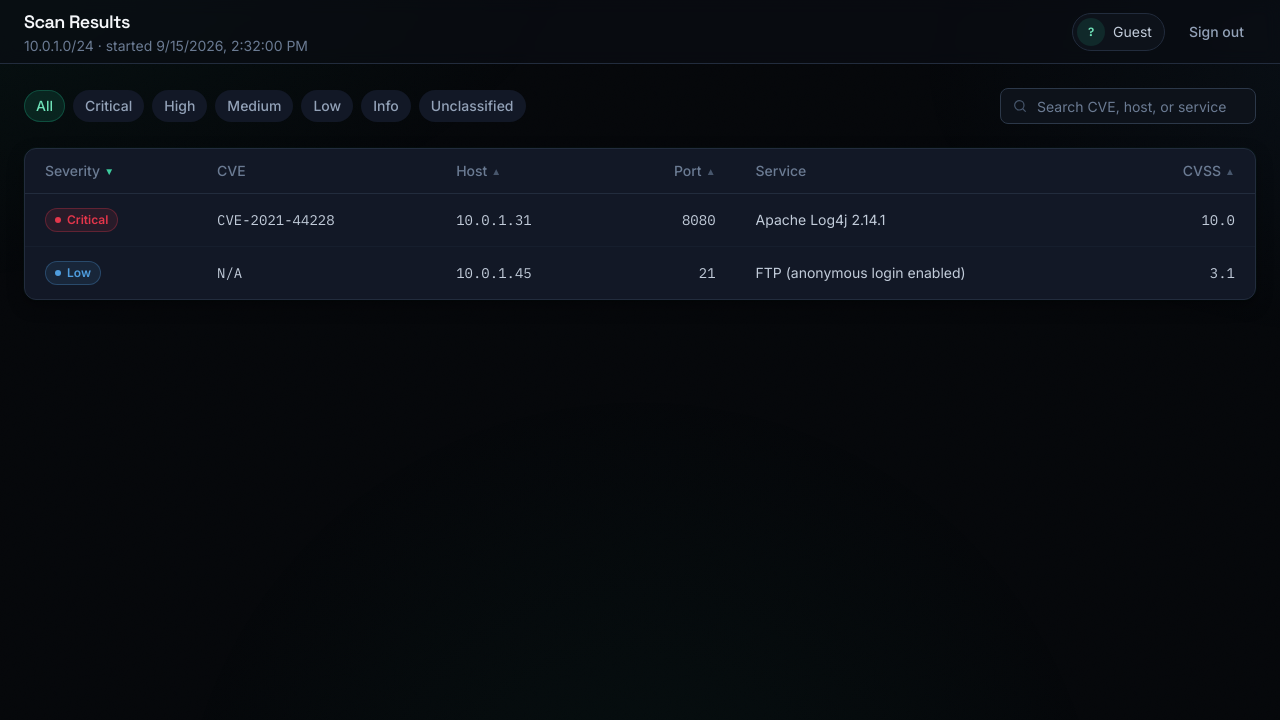
it: ScanResults › resets to Level 1 when a different vulnerability is selected
Click the text "CVE-2021-44228" at point(276, 220), box [217,211,335,229]
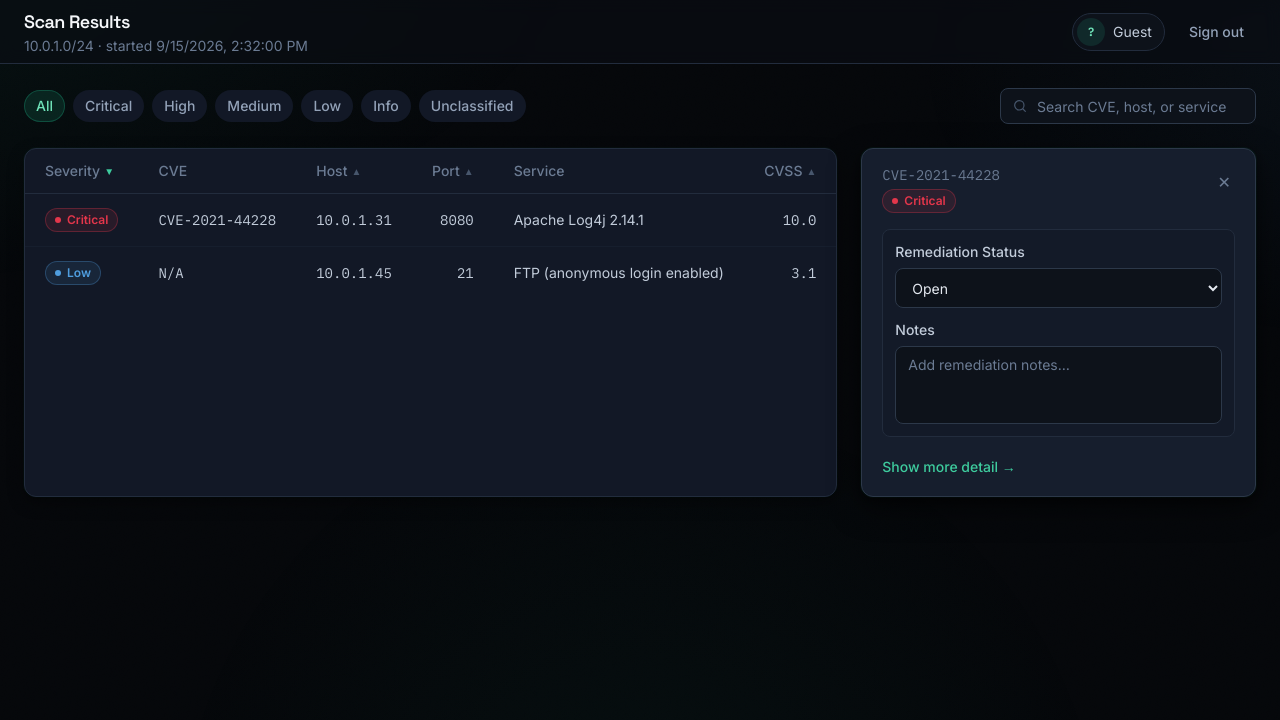
Click the button "Show more detail →" at point(949, 467), box [882,457,1016,477]
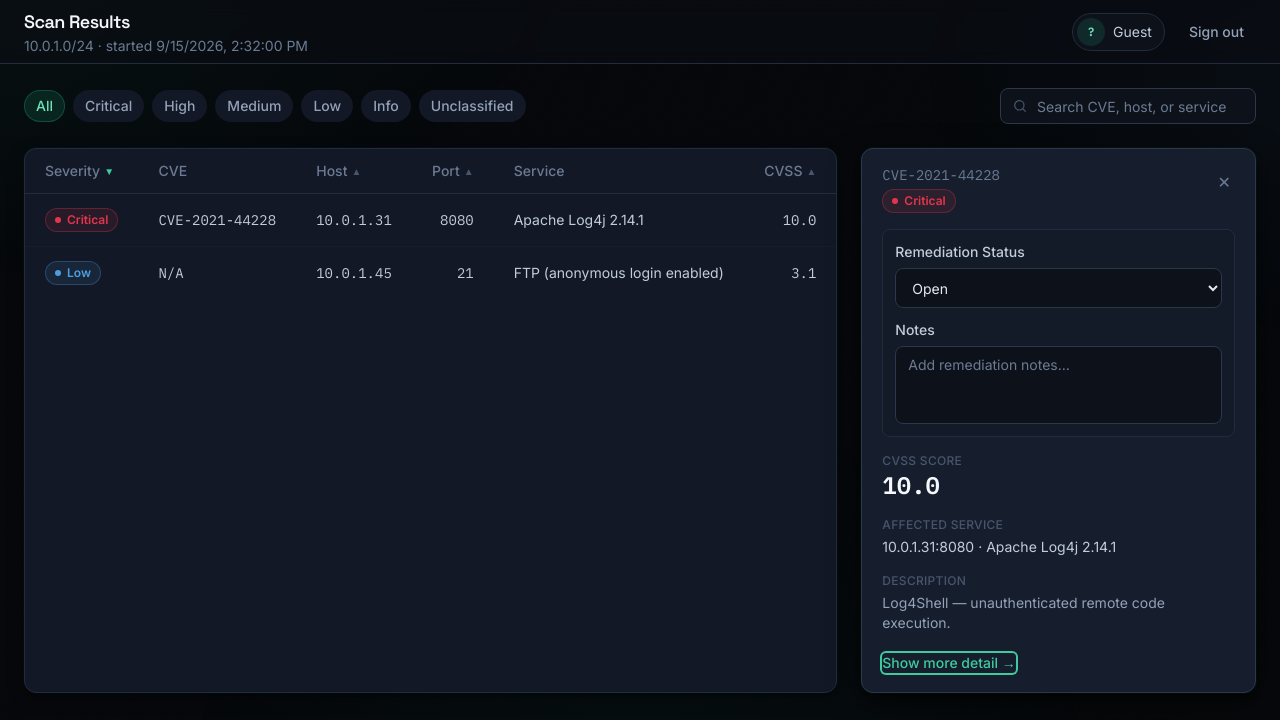
Click the button "Show more detail →" at point(949, 663), box [882,653,1016,673]
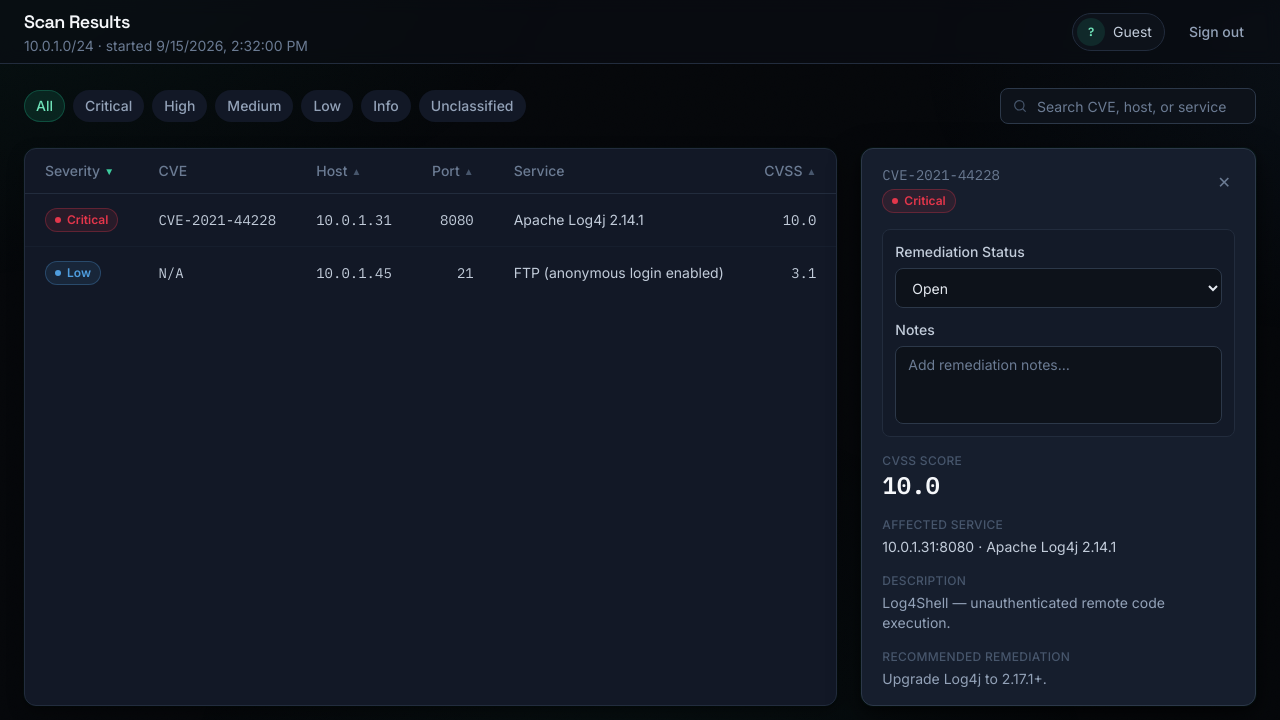
Result: the text "Upgrade Log4j to 2.17.1+." is shown at [882,670,1047,687]
Click the text "N/A" at point(171, 273), box [158,264,184,282]
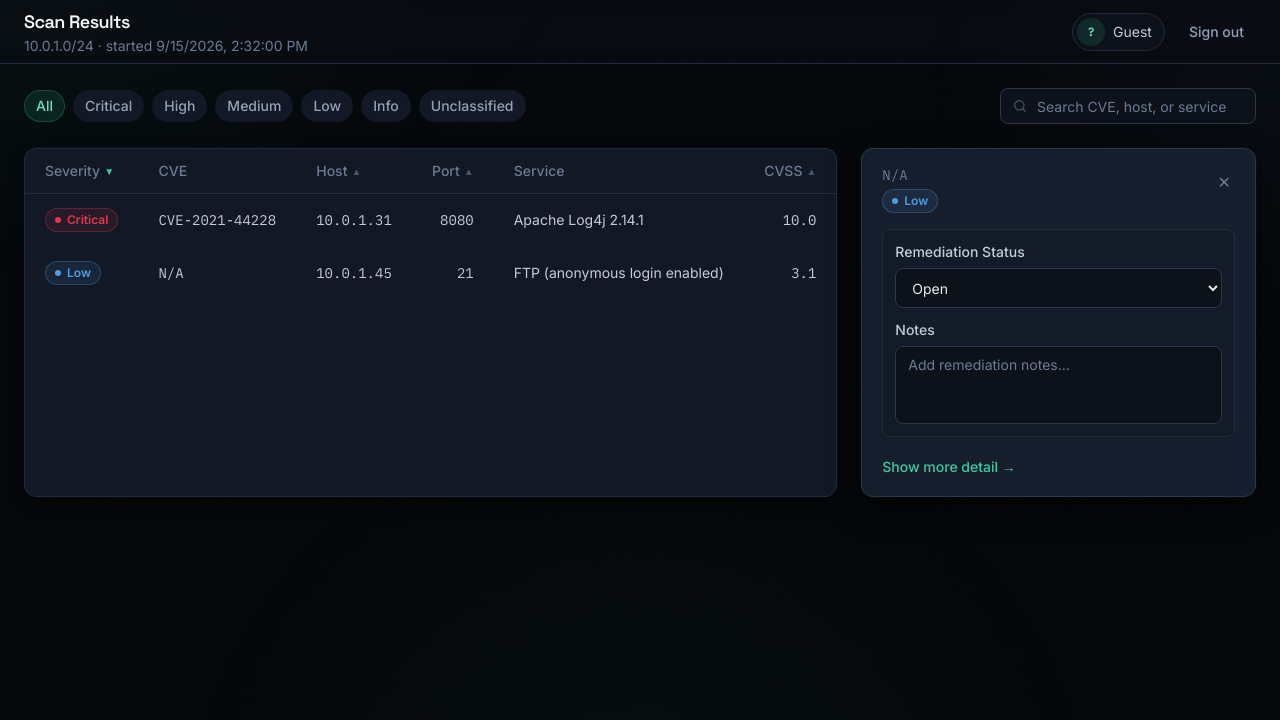
Result: the button "Show more detail →" is shown at [882,457,1016,477]
